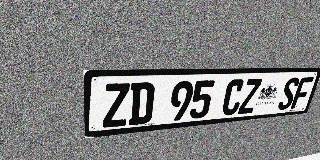5: (189, 80, 215, 119)
9: (168, 81, 195, 121)
C: (220, 79, 246, 116)
D: (128, 82, 155, 125)
F: (290, 77, 314, 109)
S: (277, 77, 301, 110)
Z: (103, 83, 130, 128), (237, 79, 262, 114)
